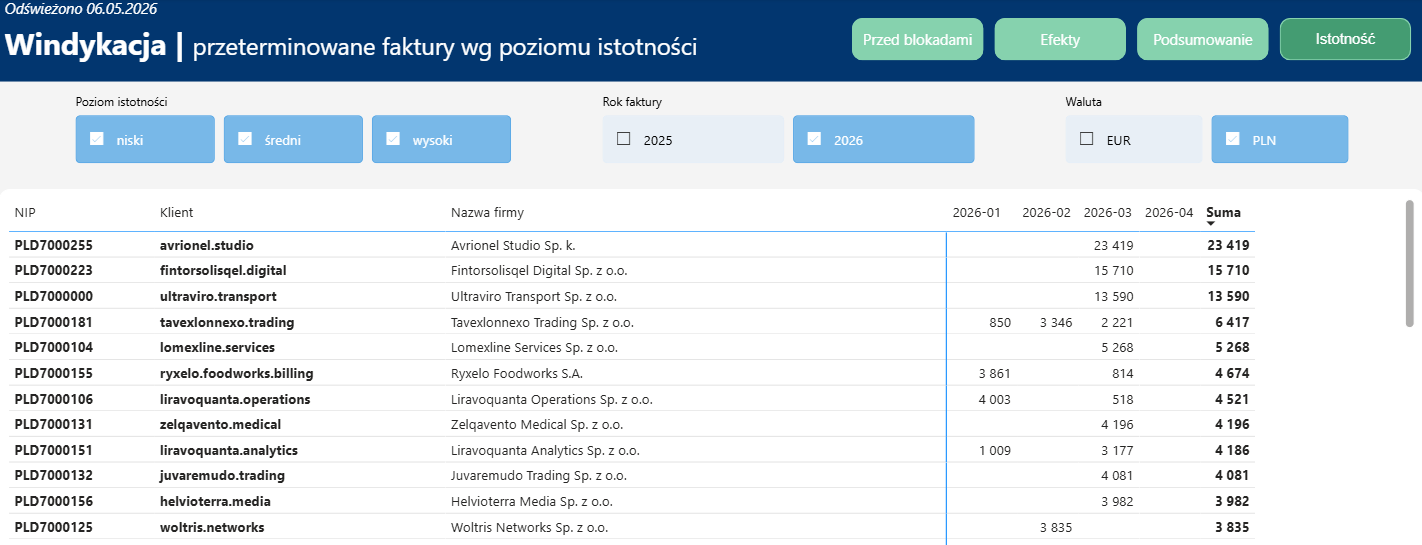

This screenshot's page, from the dashboard's own definition file:
{"tool":"powerbi","page":{"name":"Istotność ","canvas":[1280,720],"ordinal":3},"visuals":[{"type":"advancedSlicerVisual","fields":{"Values":["Istotnosc_poziom.Poziom"]},"box":[63.7,85.3,401.3,68.2],"z":0},{"type":"advancedSlicerVisual","fields":{"Values":["Aktualny_plik_szczegoly.Rok faktury"]},"box":[536.4,85.3,344.7,68.2],"z":1000},{"type":"pivotTable","title":"Przeterminowane faktury według poziomu istotności (PLN)","fields":{"Rows":["Aktualny_plik_szczegoly.NIP","Aktualny_plik_szczegoly.Klient","NIP_mapowanie.Nazwa firmy"],"Values":["Miary.Kwota przeterminowana (klient)"],"Columns":["Aktualny_plik_szczegoly.Miesiąc faktury"]},"box":[0,171.5,1280.2,548.5],"z":2000},{"type":"advancedSlicerVisual","fields":{"Values":["Aktualny_plik_szczegoly.Wal"]},"box":[952.5,85.3,265.7,68.2],"z":3000},{"type":"textbox","box":[0,0,1280.2,75],"z":4000},{"type":"pageNavigator","box":[765.8,18,503.6,38.6],"z":5000}]}

Visuals, with their boxes on the page's 1280x720 design canvas (x1, y1, x2, y2). These are canvas units, not pixel positions in the 1422x545 screenshot, which may show the page scaled, cropped or inside an application window:
advancedSlicerVisual - Istotnosc_poziom.Poziom: [64, 85, 465, 154]
advancedSlicerVisual - Aktualny_plik_szczegoly.Rok faktury: [536, 85, 881, 154]
"Przeterminowane faktury według poziomu istotności (PLN)" pivotTable: [0, 172, 1280, 720]
advancedSlicerVisual - Aktualny_plik_szczegoly.Wal: [952, 85, 1218, 154]
textbox: [0, 0, 1280, 75]
pageNavigator: [766, 18, 1269, 57]
